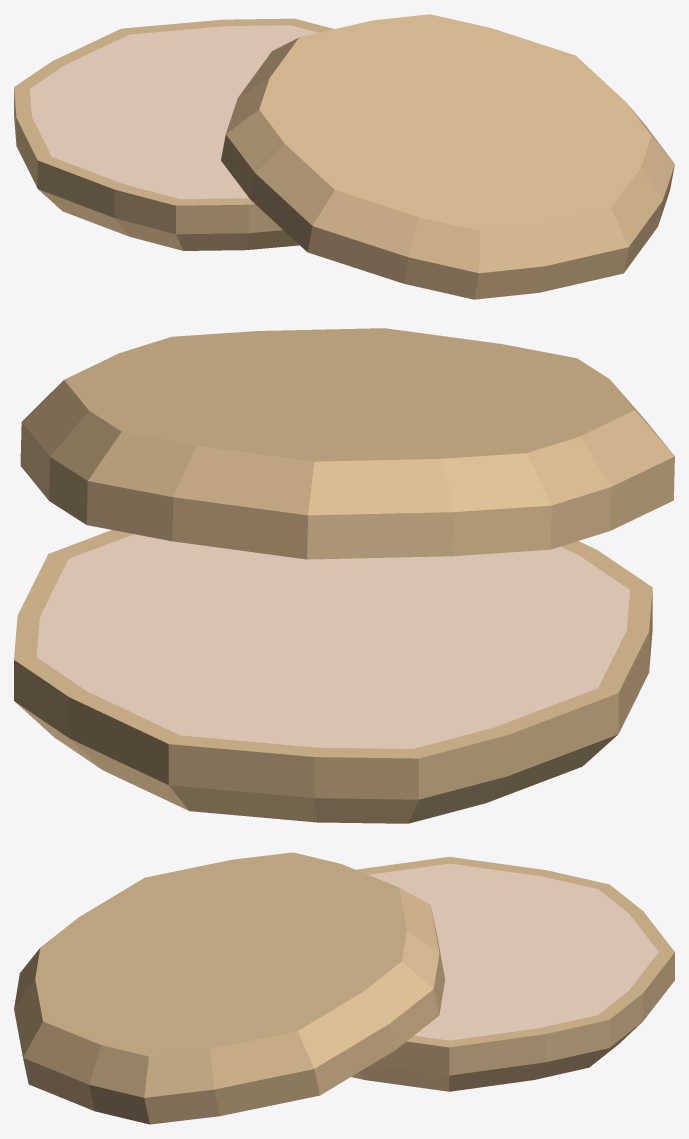
File: burgerBread.fbx
3 views of the same model, one above another, from view 1: azimuth 30°, elevation 25°; view 2: azimuth 150°, elevation 25°; view 3: azimuth 270°, elevation 25° (orthographic). The views are drawn at different scales.
Visible parts, largest first — view 1: Cube.001, Cube; view 2: Cube, Cube.001; view 3: Cube.001, Cube.
Part boxes in pixels (left/top/right/bottom): Cube.001: left=221, top=14, right=674, bottom=299; Cube: left=14, top=18, right=333, bottom=250; Cube: left=14, top=530, right=652, bottom=823; Cube.001: left=20, top=328, right=674, bottom=559; Cube.001: left=14, top=852, right=445, bottom=1124; Cube: left=351, top=856, right=674, bottom=1091.
Size of the model in its own units: 157 by 133 by 36.63.
